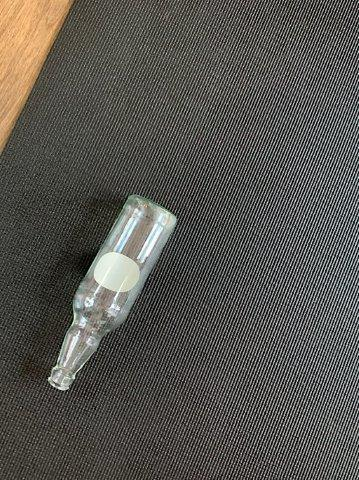botolkaca: (46, 197, 177, 392)
